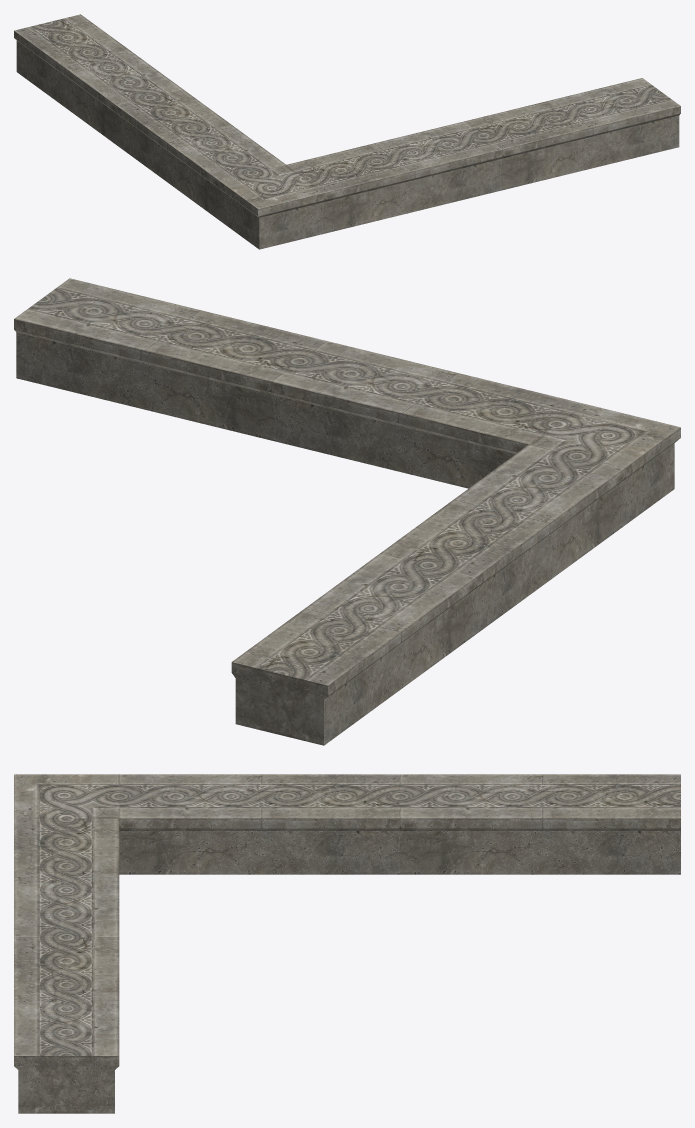
Rendered from bg_lut_lucastle_castleborder01b_sm_phs.FBX.
3 renders of one model, top to bottom at view 1: azimuth 30°, elevation 25°; view 2: azimuth 150°, elevation 25°; view 3: azimuth 270°, elevation 25°, orthographic. The views are drawn at different scales.
Parts seen in each view (by area): view 1: bg_lut_lucastle_castleborder01b_sm_phs; view 2: bg_lut_lucastle_castleborder01b_sm_phs; view 3: bg_lut_lucastle_castleborder01b_sm_phs.
Boxes of the visible parts, left/top/right/bottom form: bg_lut_lucastle_castleborder01b_sm_phs: left=14, top=14, right=680, bottom=249; bg_lut_lucastle_castleborder01b_sm_phs: left=14, top=278, right=680, bottom=745; bg_lut_lucastle_castleborder01b_sm_phs: left=14, top=774, right=680, bottom=1113.
Size of the model in its own units: 608 by 58 by 608.
